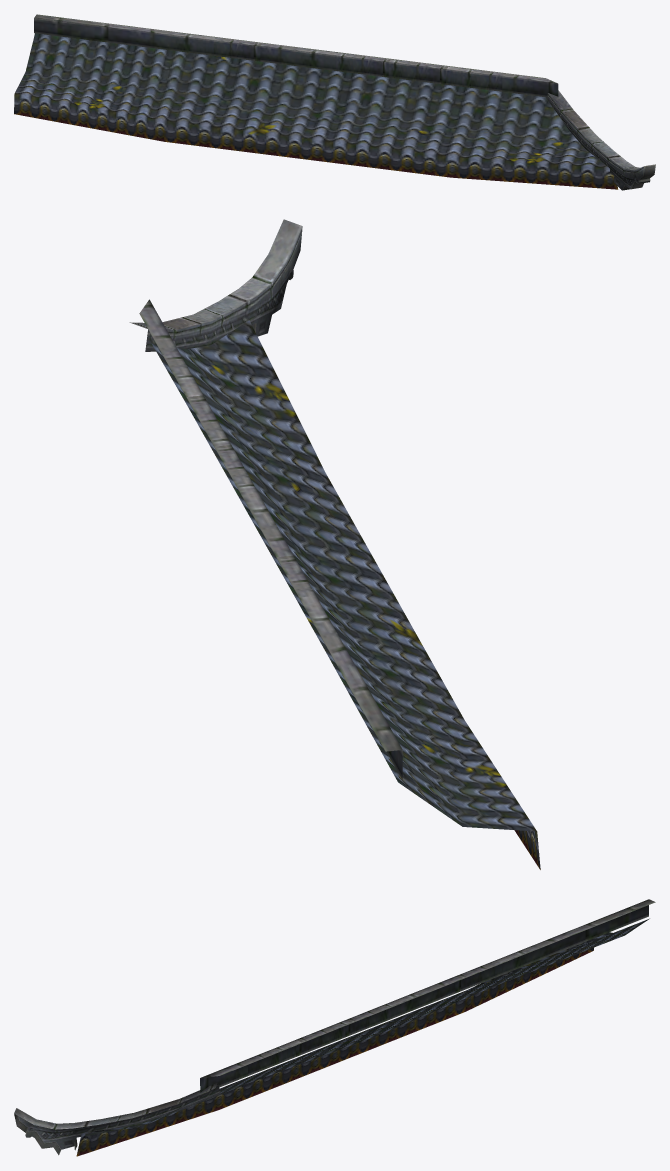
File: S2_Build_XSC059_L1.FBX
The picture shows the model from 3 angles, top to bottom: view 1: azimuth 30°, elevation 25°; view 2: azimuth 150°, elevation 25°; view 3: azimuth 270°, elevation 25°; orthographic projection. The views are drawn at different scales.
Parts seen in each view (by area): view 1: S2_Build_XSC059_L1; view 2: S2_Build_XSC059_L1; view 3: S2_Build_XSC059_L1.
Part boxes in pixels (bbox=[...]): S2_Build_XSC059_L1: bbox=[14, 14, 655, 190]; S2_Build_XSC059_L1: bbox=[129, 219, 540, 869]; S2_Build_XSC059_L1: bbox=[14, 899, 655, 1156].
Size of the model in its own units: 11931 by 2267 by 15248.
